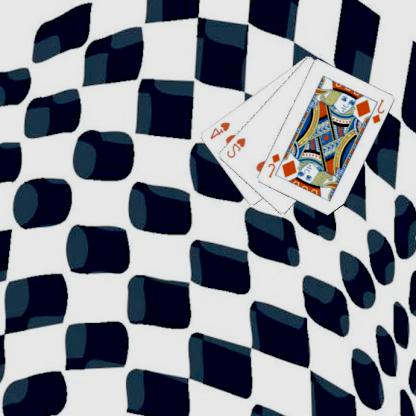2H: (226, 135, 248, 160)
4H: (208, 119, 232, 140)
JD: (370, 96, 388, 126), (266, 151, 283, 179)
